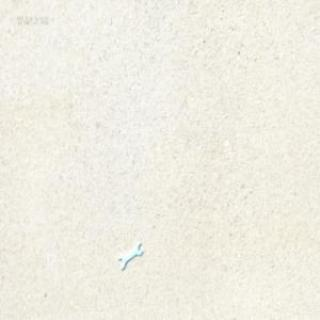Wrenchtrack_idkeyframe: (118, 241, 142, 271)
